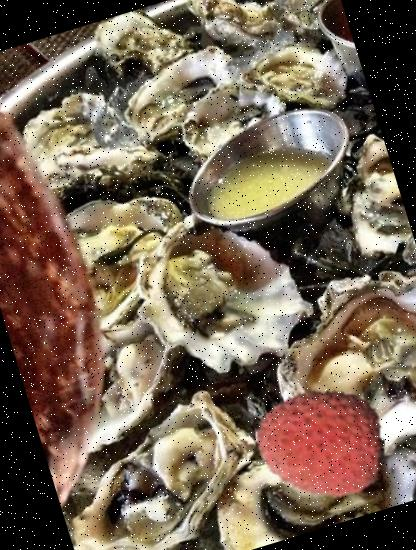Lychee: (240, 362, 401, 522)
